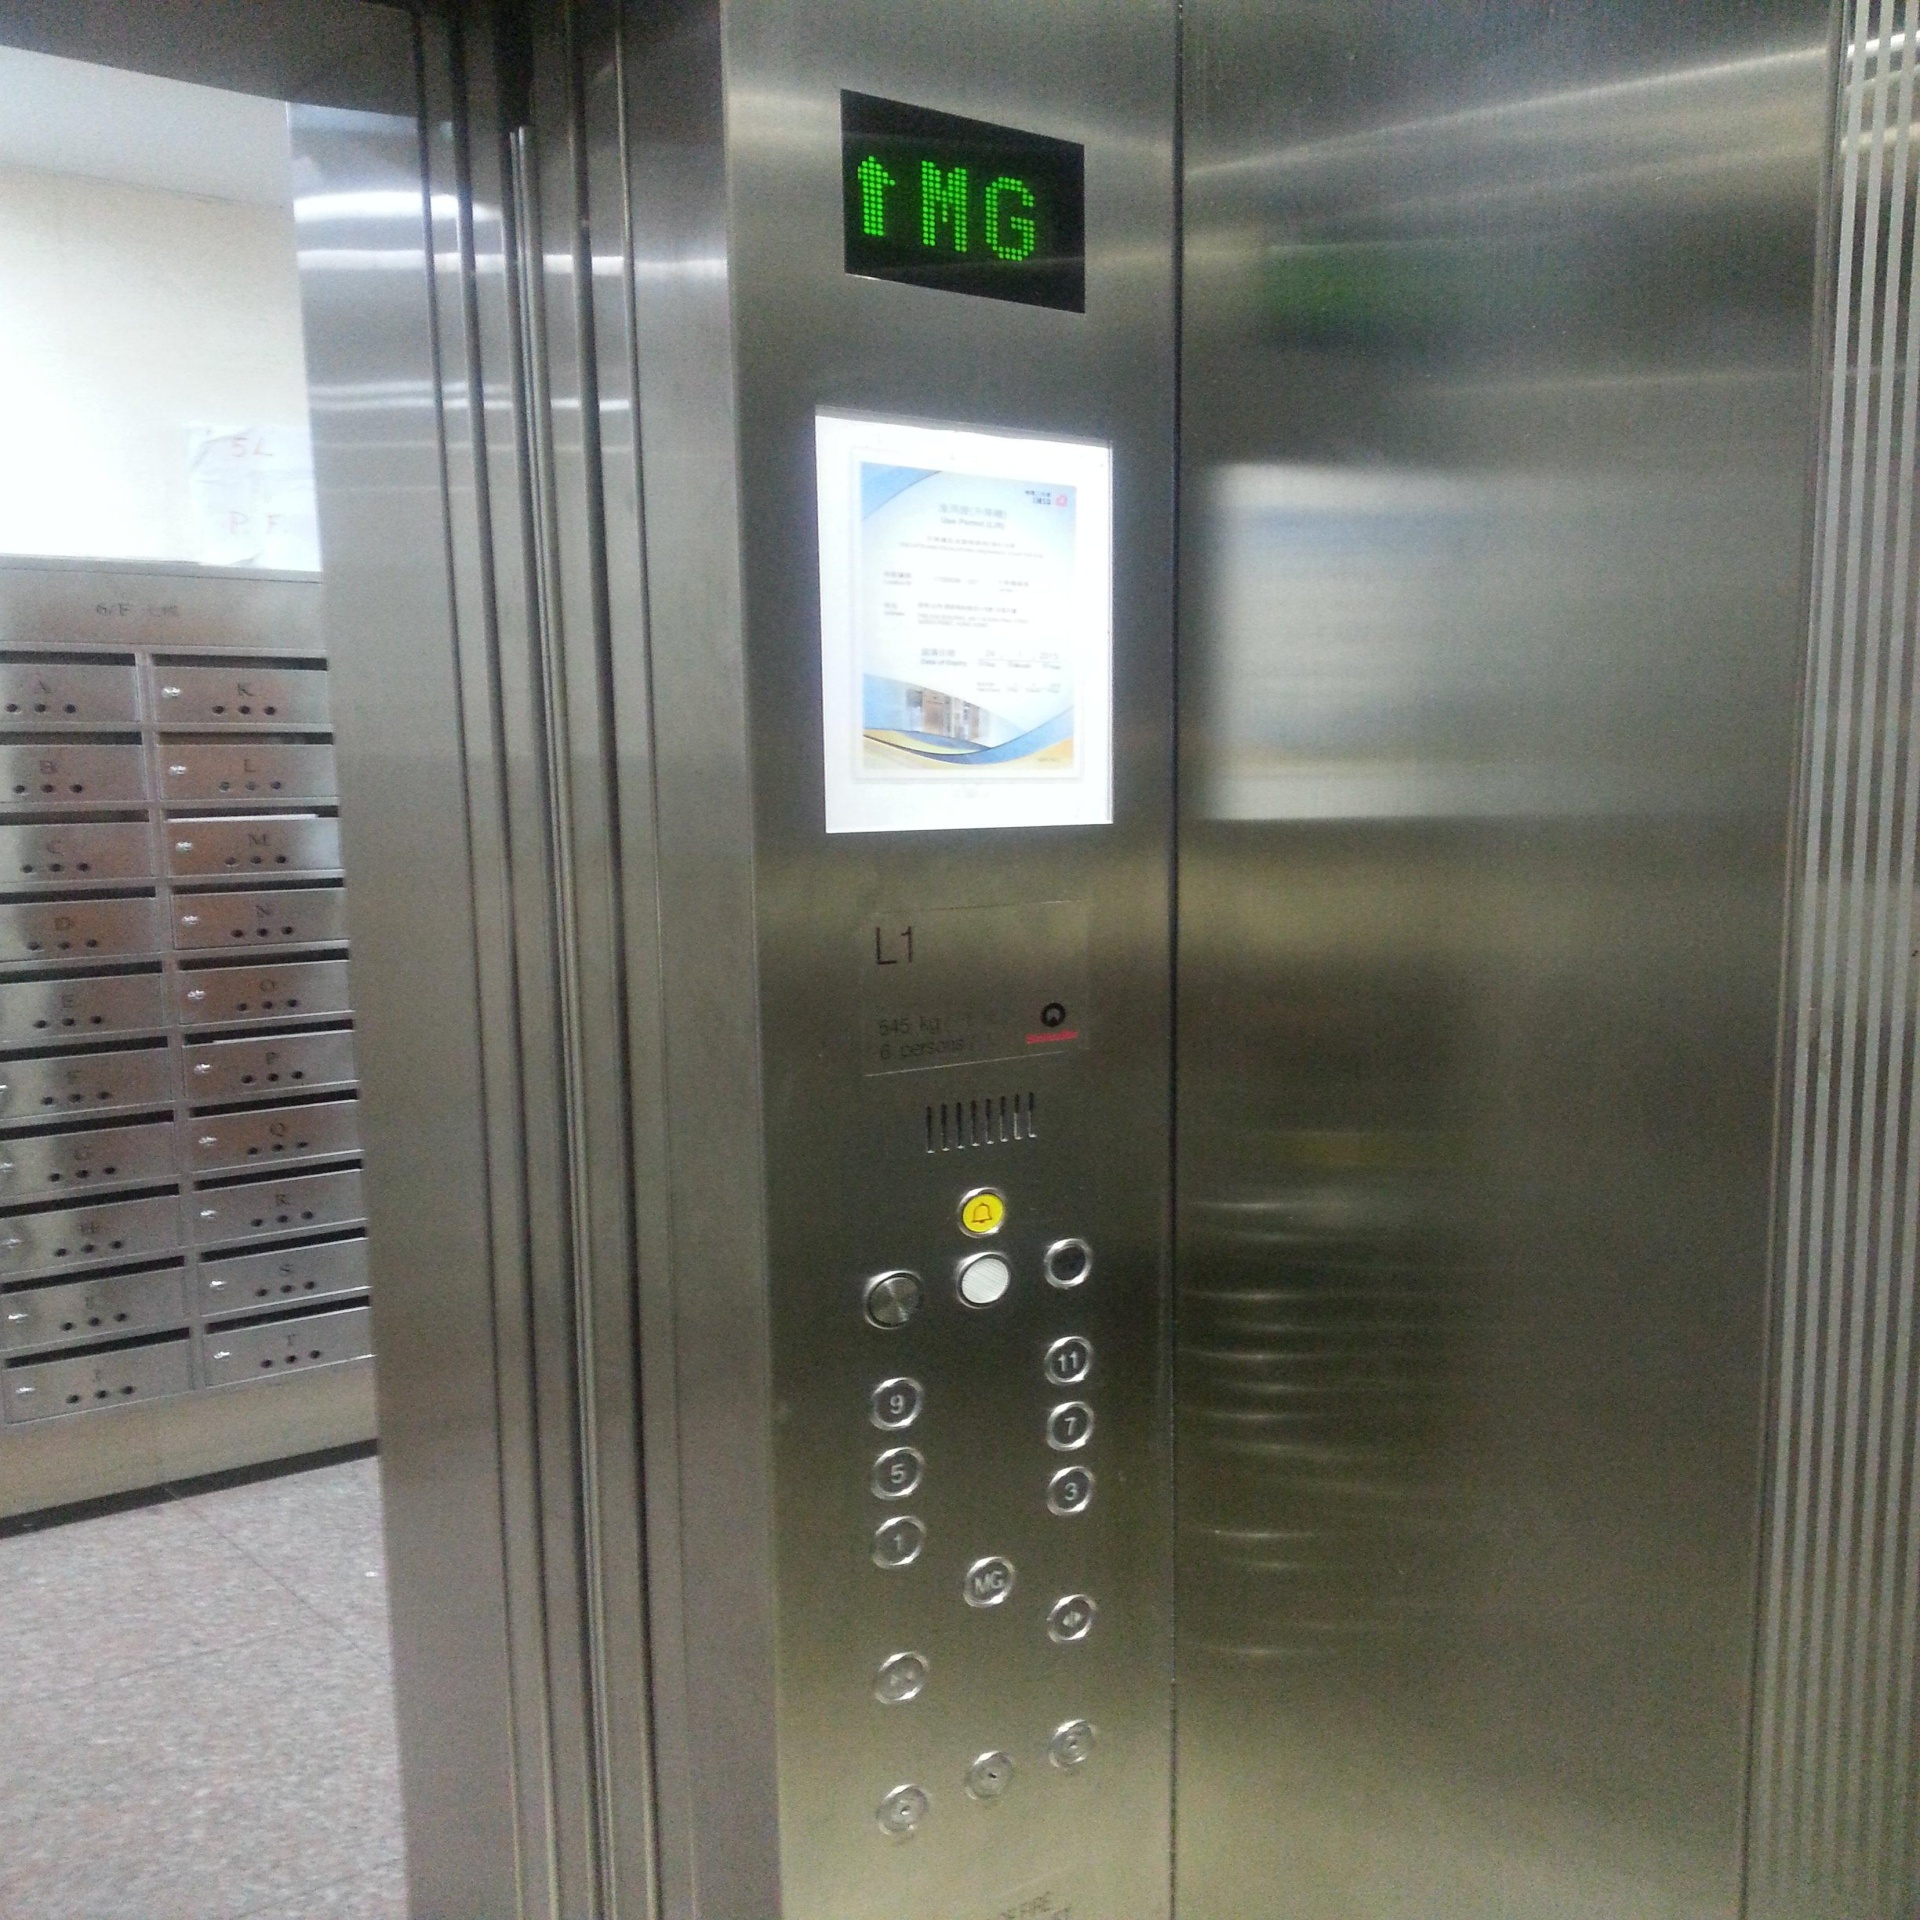1: (870, 1514, 927, 1572)
11: (1044, 1336, 1094, 1385)
3: (1046, 1466, 1094, 1516)
5: (870, 1445, 925, 1502)
7: (1043, 1401, 1094, 1449)
9: (869, 1375, 921, 1431)
MG: (965, 1554, 1016, 1605)
alarm: (956, 1187, 1009, 1241)
blur: (1043, 1240, 1094, 1287)
close: (874, 1653, 928, 1704)
empty: (951, 1252, 1015, 1312)
keyhole: (876, 1785, 928, 1836), (1048, 1720, 1095, 1772), (967, 1751, 1015, 1804)
led: (839, 90, 1088, 311)
open: (1046, 1595, 1095, 1642)
speaker: (860, 1269, 921, 1331)
